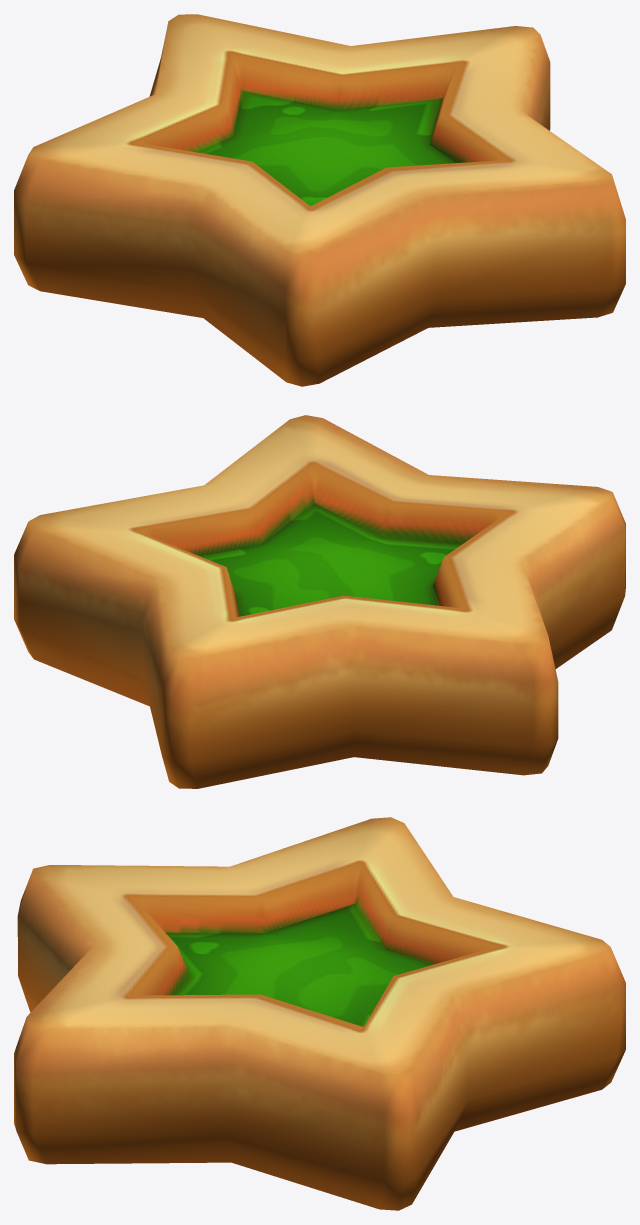
Rendered from 009-Cookies05.FBX.
The picture shows the model from 3 angles, top to bottom: view 1: azimuth 30°, elevation 25°; view 2: azimuth 150°, elevation 25°; view 3: azimuth 270°, elevation 25°; orthographic projection. The views are drawn at different scales.
Parts seen in each view (by area): view 1: 009-Cookies05; view 2: 009-Cookies05; view 3: 009-Cookies05.
Boxes of the visible parts, x1,y1,x2,y2 form: 009-Cookies05: [14, 14, 625, 386]; 009-Cookies05: [14, 415, 625, 788]; 009-Cookies05: [14, 817, 625, 1210].
Size of the model in its own units: 12.46 by 2.91 by 11.93.
